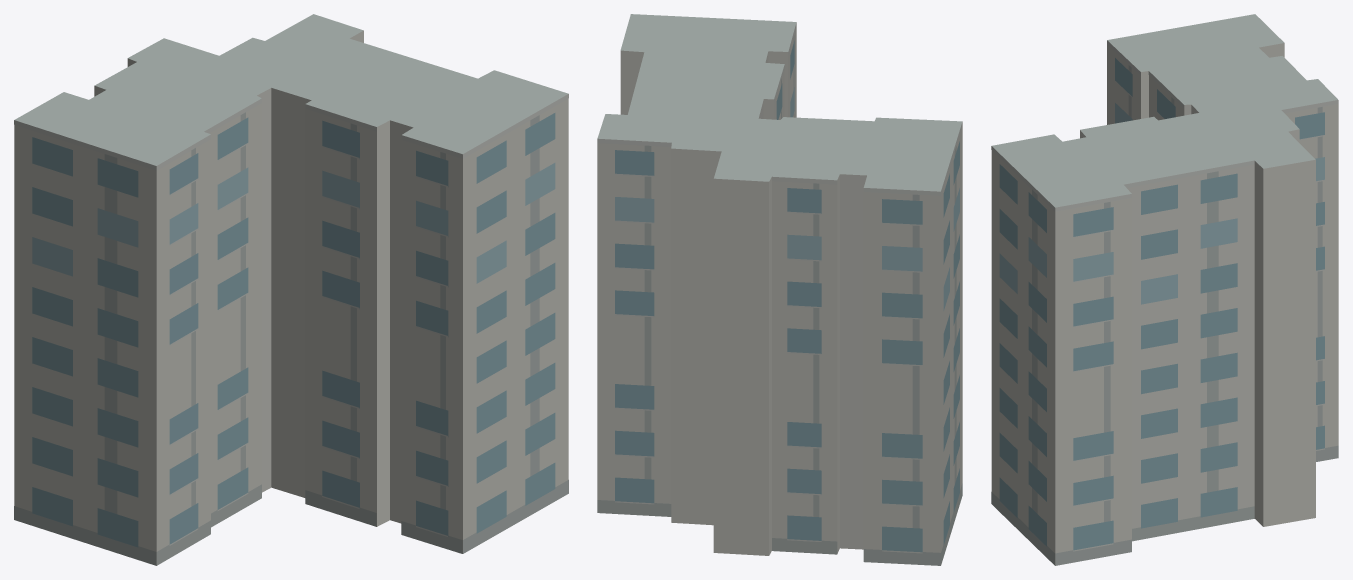
Rendered from survey-upis-32839662.glb.
3 renders of one model, left to right at view 1: azimuth 30°, elevation 25°; view 2: azimuth 150°, elevation 25°; view 3: azimuth 270°, elevation 25°, orthographic. The views are drawn at different scales.
Visible parts, largest first — view 1: survey-upis-32839662.tmp; view 2: survey-upis-32839662.tmp; view 3: survey-upis-32839662.tmp.
Boxes of the visible parts, left/top/right/bottom form: survey-upis-32839662.tmp: left=14, top=14, right=568, bottom=565; survey-upis-32839662.tmp: left=597, top=14, right=962, bottom=565; survey-upis-32839662.tmp: left=991, top=14, right=1338, bottom=565.
Bounding box in the file's own units: 24.61 × 21.22 × 18.63.
